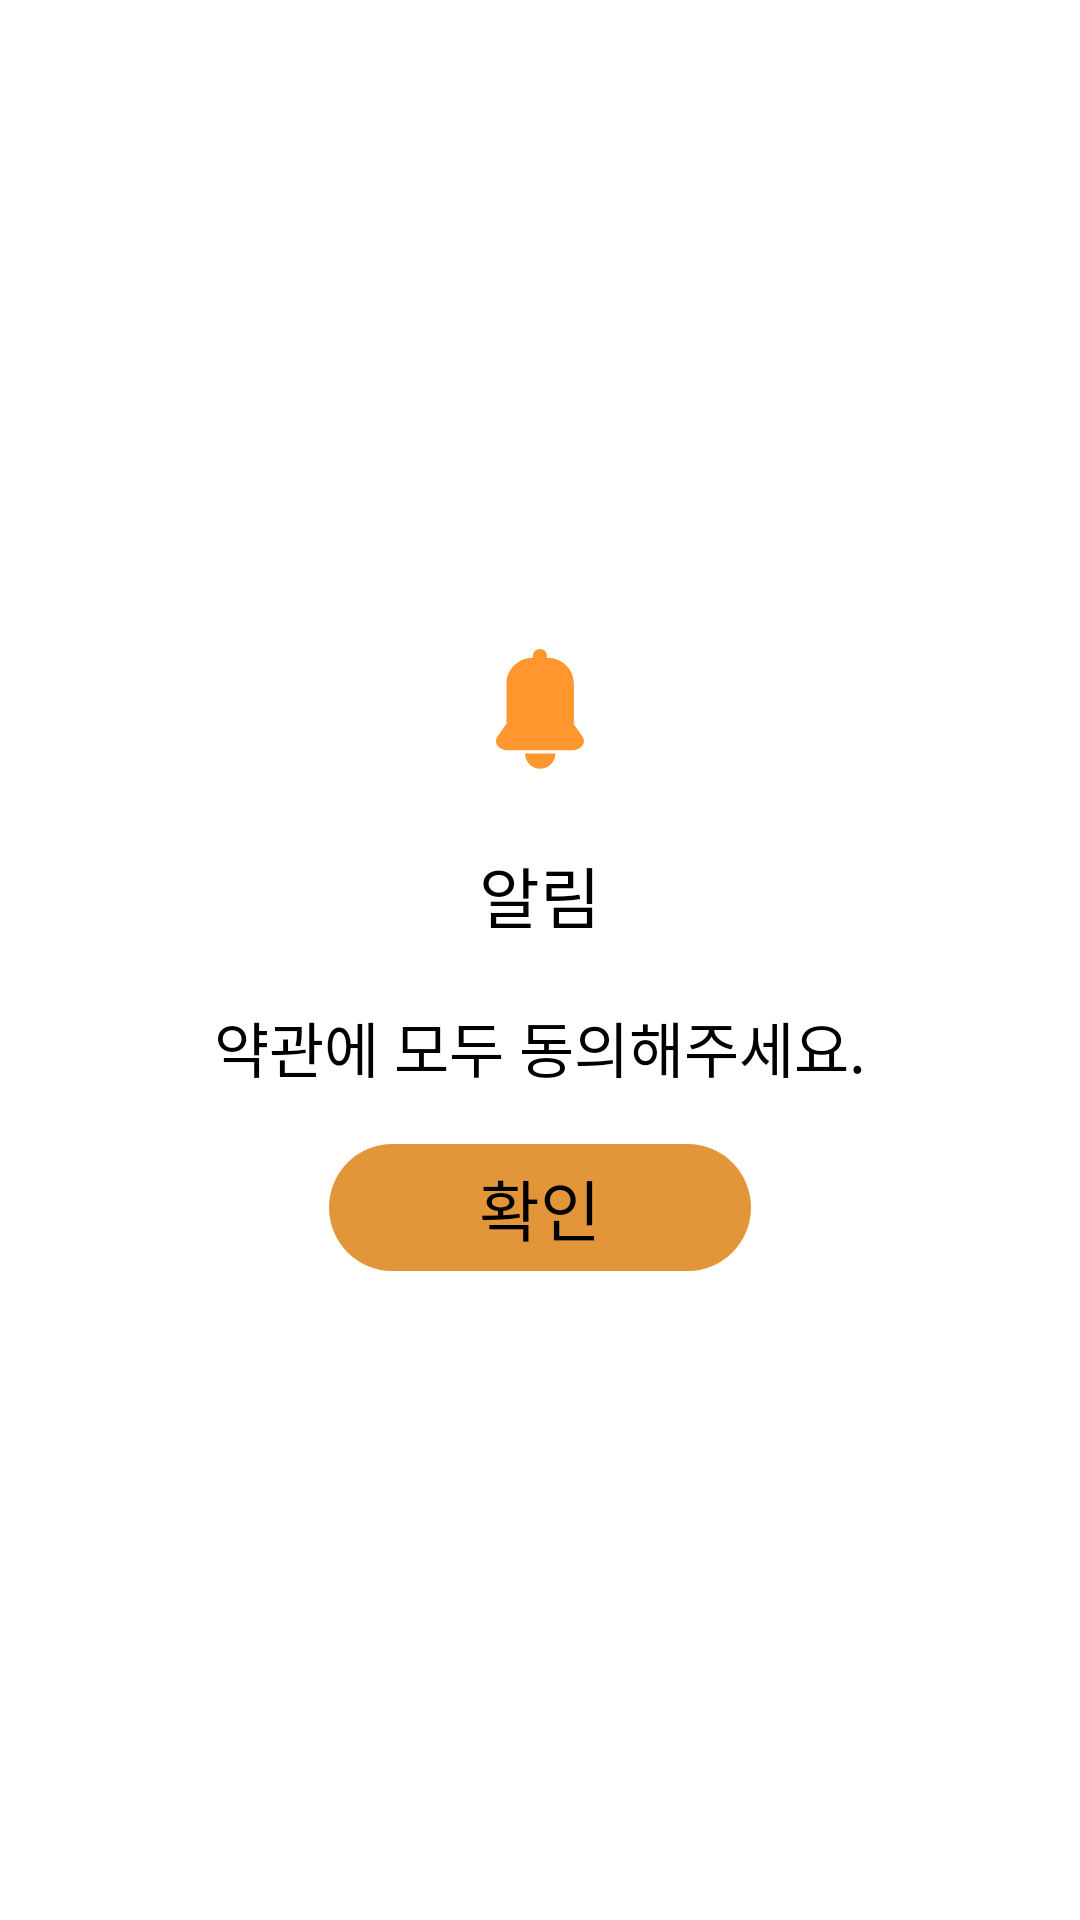

Icons on this 1080 × 1920 Android screen, each with the point to tap as (x=x, y=y):
bell: (x=540, y=709)
